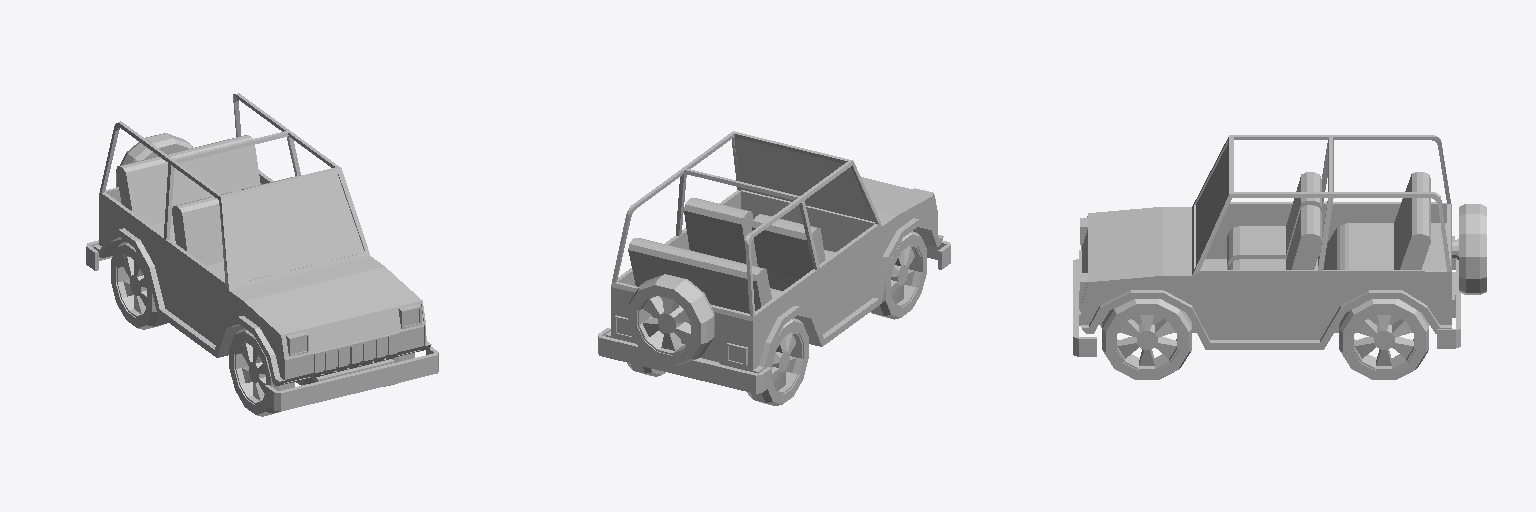
Rendered from jeep_02.obj.
3 renders of one model, left to right at view 1: azimuth 30°, elevation 25°; view 2: azimuth 150°, elevation 25°; view 3: azimuth 270°, elevation 25°, orthographic.
Parts seen in each view (by area): view 1: jeep_Cube; view 2: jeep_Cube; view 3: jeep_Cube.
Part boxes in pixels (x1,y1,x2,y2): jeep_Cube: (86,93,438,416); jeep_Cube: (598,131,950,405); jeep_Cube: (1073,135,1486,379).
Bounding box in the file's own units: 1.02 × 1.09 × 2.23.